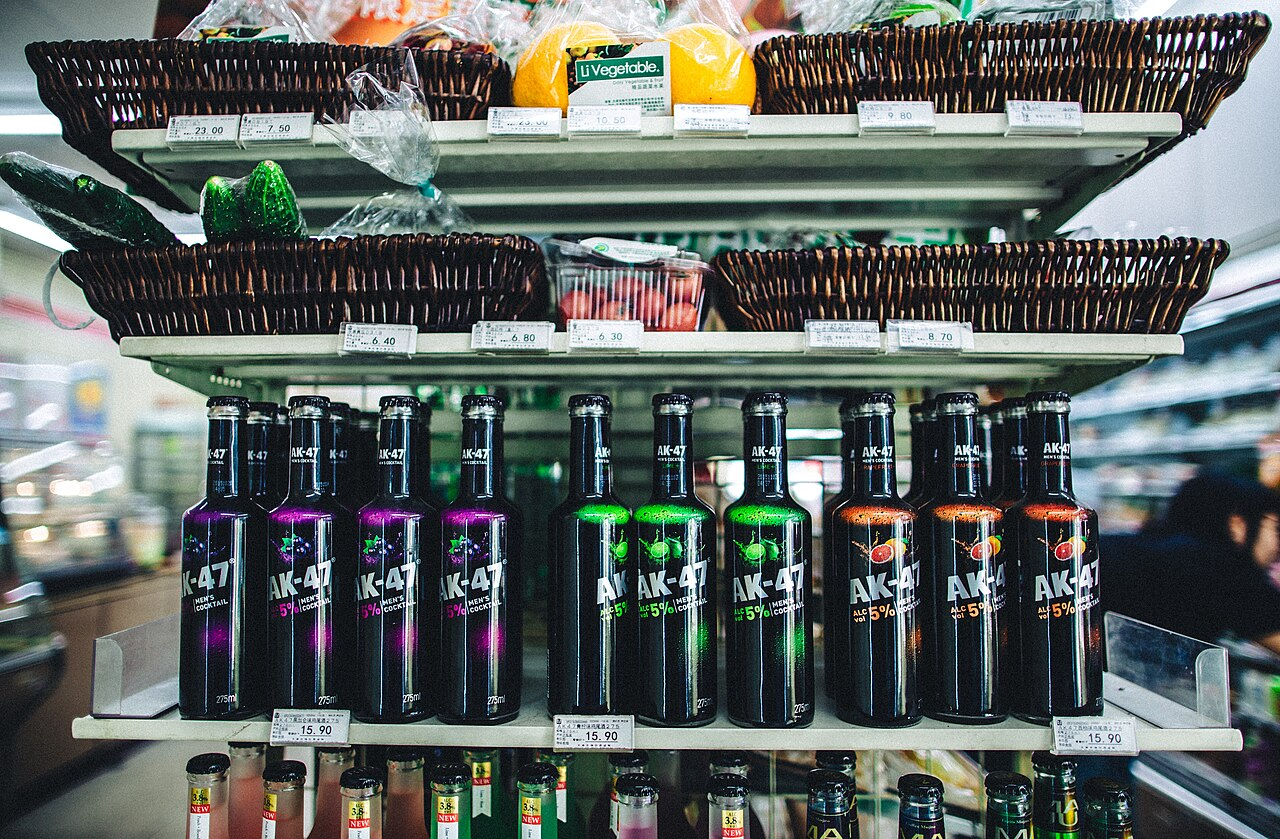unknown_bottle: (823, 393, 922, 731), (1005, 392, 1105, 725), (722, 391, 816, 731), (917, 391, 1010, 727), (546, 394, 639, 719), (352, 395, 443, 726), (178, 396, 270, 723), (265, 397, 358, 715), (438, 388, 525, 725), (634, 392, 720, 729), (705, 755, 754, 839), (428, 754, 473, 839), (806, 767, 858, 839), (261, 761, 308, 839), (612, 773, 660, 839)
